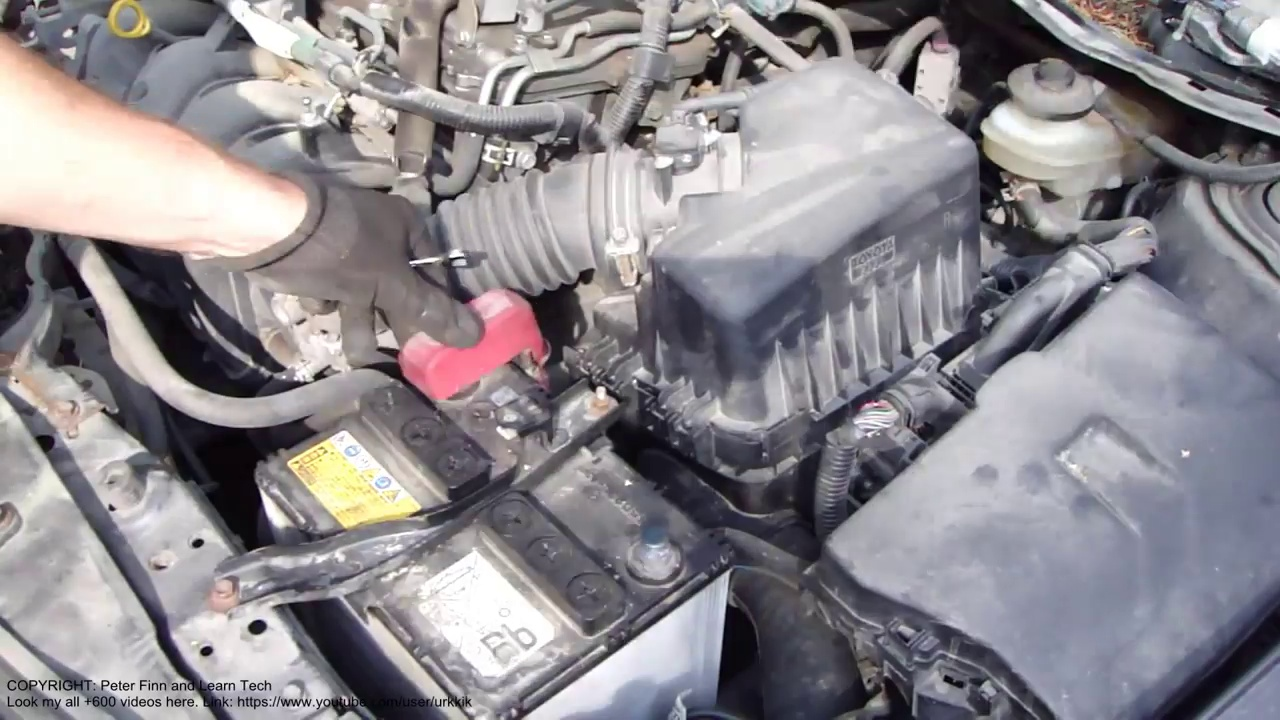battery: (260, 299, 755, 701)
neg_disconnected: (604, 498, 711, 593)
pos_touched: (339, 243, 561, 402)
